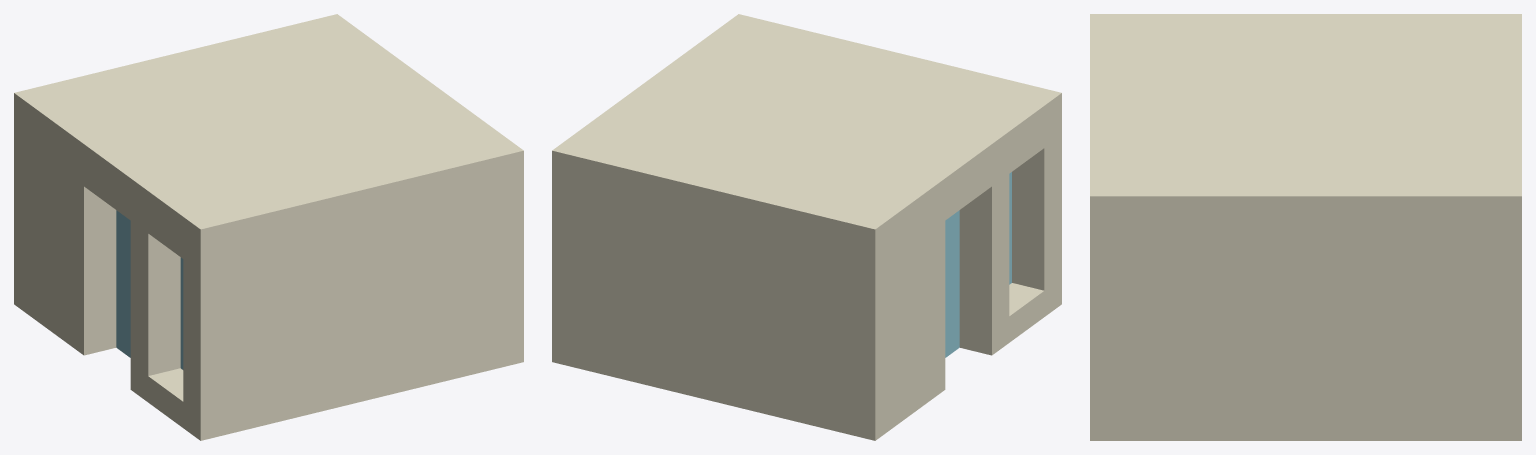
Rendered from modularBuildings_069.fbx.
The picture shows the model from 3 angles, left to right: view 1: azimuth 30°, elevation 25°; view 2: azimuth 150°, elevation 25°; view 3: azimuth 270°, elevation 25°; orthographic projection. The views are drawn at different scales.
Visible parts, largest first — view 1: Mesh1_Group1 Model; view 2: Mesh1_Group1 Model; view 3: Mesh1_Group1 Model.
Boxes of the visible parts, bbox=[...] form: Mesh1_Group1 Model: bbox=[14, 14, 523, 440]; Mesh1_Group1 Model: bbox=[552, 14, 1061, 440]; Mesh1_Group1 Model: bbox=[1090, 14, 1521, 440].
Size of the model in its own units: 1 by 0.625 by 1.
